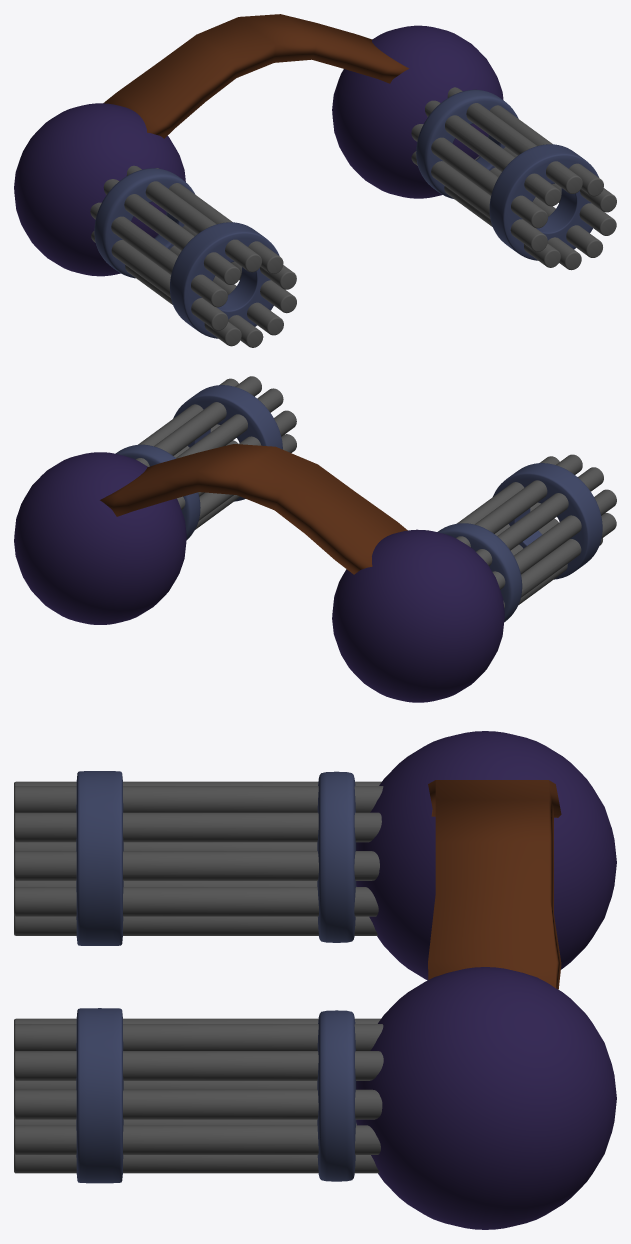
File: MetralletaLLama.fbx
3 renders of one model, top to bottom at view 1: azimuth 30°, elevation 25°; view 2: azimuth 150°, elevation 25°; view 3: azimuth 270°, elevation 25°, orthographic. The views are drawn at different scales.
Parts seen in each view (by area): view 1: BaseMetralleta, Metralletax, Tirante, SoporteUno, SoporteDos; view 2: BaseMetralleta, Tirante, Metralletax, SoporteUno, SoporteDos; view 3: Metralletax, BaseMetralleta, Tirante, SoporteUno, SoporteDos.
Part boxes in pixels (x1=…): BaseMetralleta: x1=14, y1=25, x2=503, y2=276; Metralletax: x1=90, y1=87, x2=616, y2=347; Tirante: x1=103, y1=14, x2=408, y2=138; SoporteUno: x1=170, y1=144, x2=599, y2=338; SoporteDos: x1=94, y1=89, x2=518, y2=278; BaseMetralleta: x1=14, y1=452, x2=504, y2=702; Tirante: x1=100, y1=444, x2=407, y2=574; Metralletax: x1=136, y1=376, x2=616, y2=608; SoporteUno: x1=173, y1=385, x2=602, y2=579; SoporteDos: x1=116, y1=444, x2=522, y2=622; Metralletax: x1=14, y1=781, x2=383, y2=1173; BaseMetralleta: x1=356, y1=731, x2=616, y2=1229; Tirante: x1=428, y1=780, x2=561, y2=989; SoporteUno: x1=76, y1=771, x2=123, y2=1183; SoporteDos: x1=317, y1=771, x2=356, y2=1181.
Size of the model in its own units: 624 by 251 by 458.
